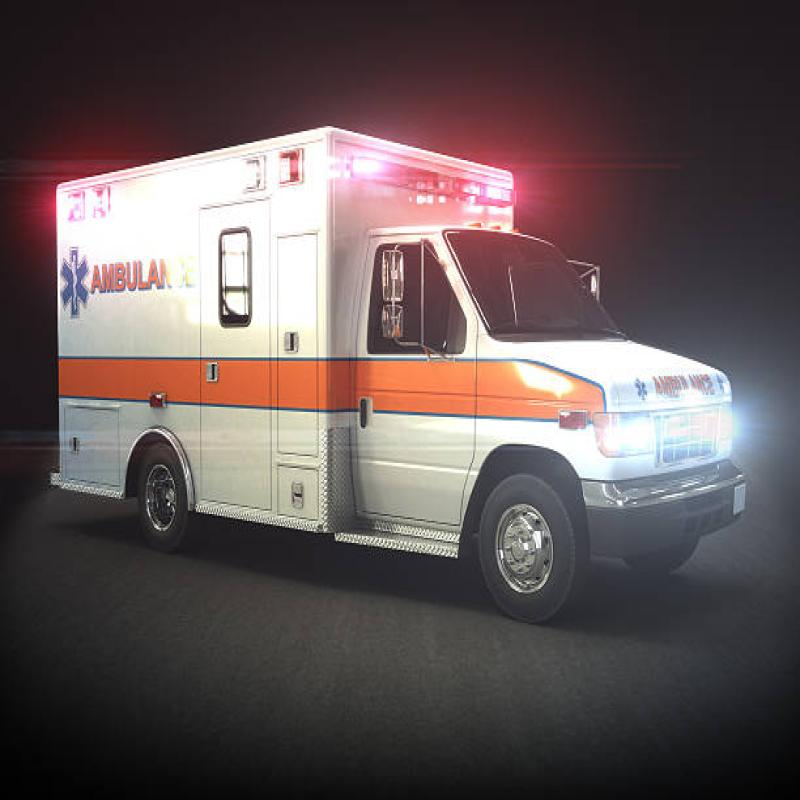ambulance: (38, 117, 754, 635)
